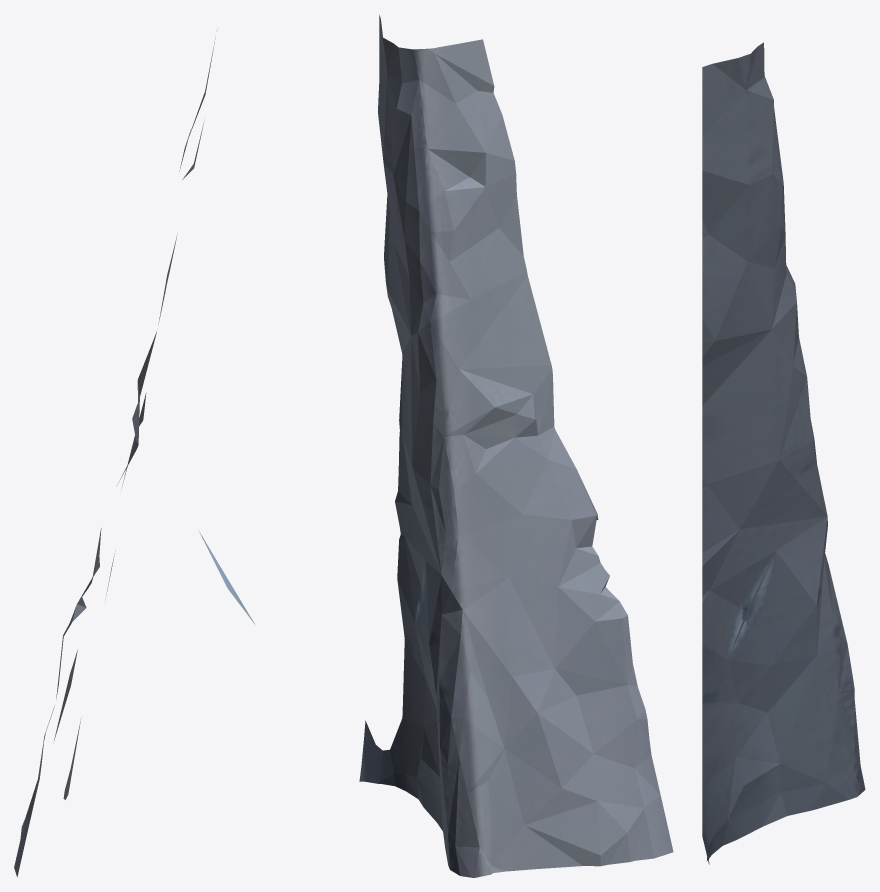
3 views of the same model, side by side, from view 1: azimuth 30°, elevation 25°; view 2: azimuth 150°, elevation 25°; view 3: azimuth 270°, elevation 25° (orthographic). The views are drawn at different scales.
Bounding box in the file's own units: 0.3522 × 0.8374 × 0.154.
Materials: 1 (1 with a texture image).
